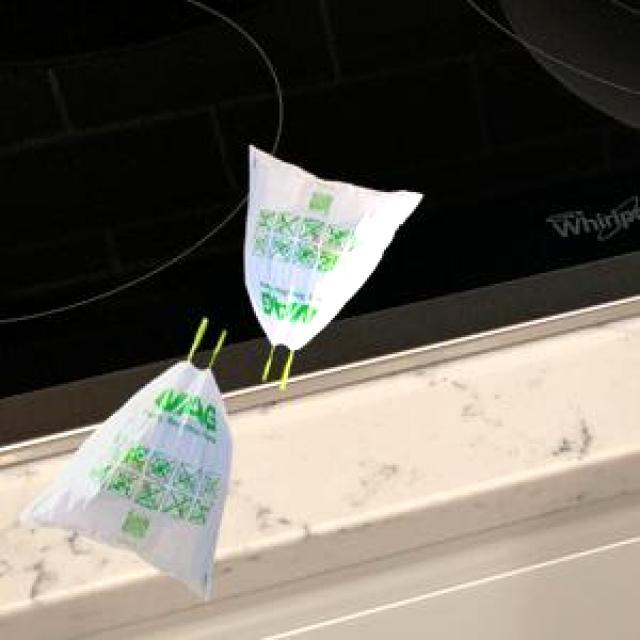Plastic_Bag: (16, 314, 230, 596), (242, 142, 419, 385)
